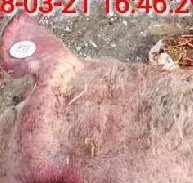text: (2, 30, 44, 70)
